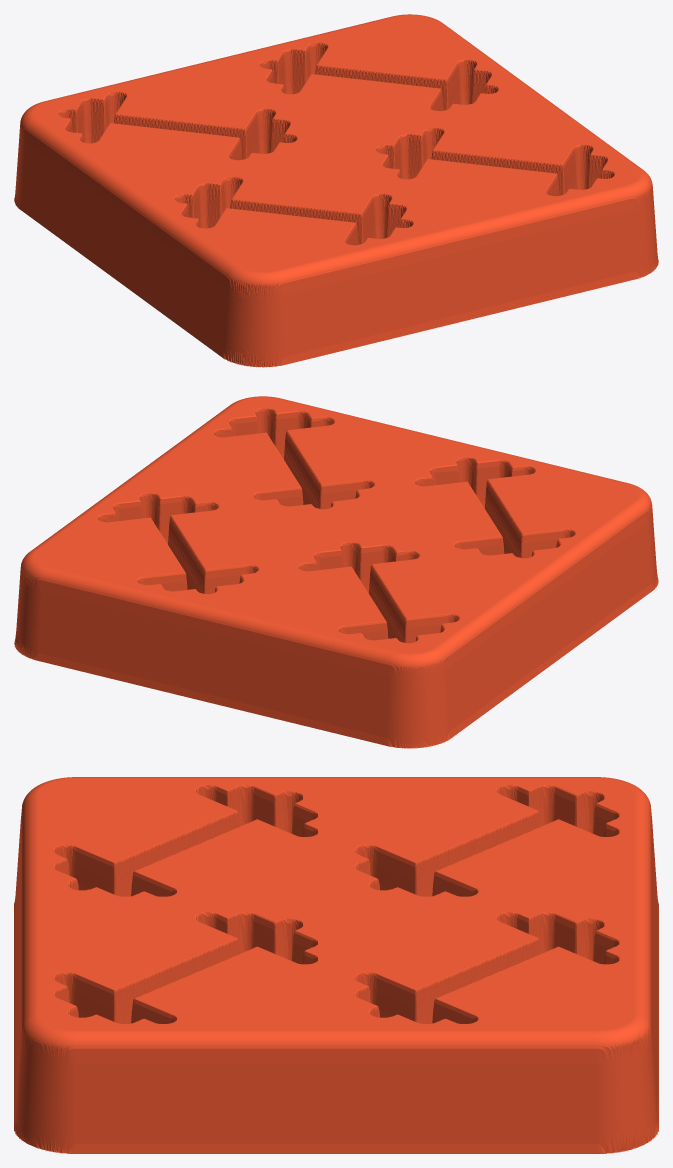
File: mold.glb
3 views of the same model, one above another, from view 1: azimuth 30°, elevation 25°; view 2: azimuth 150°, elevation 25°; view 3: azimuth 270°, elevation 25° (orthographic). The views are drawn at different scales.
Parts seen in each view (by area): view 1: geometry_0; view 2: geometry_0; view 3: geometry_0.
Boxes of the visible parts, bbox=[...] form: geometry_0: bbox=[14, 14, 658, 367]; geometry_0: bbox=[14, 396, 658, 748]; geometry_0: bbox=[14, 777, 658, 1153].
Size of the model in its own units: 0.0942 by 0.0182 by 0.0942.
